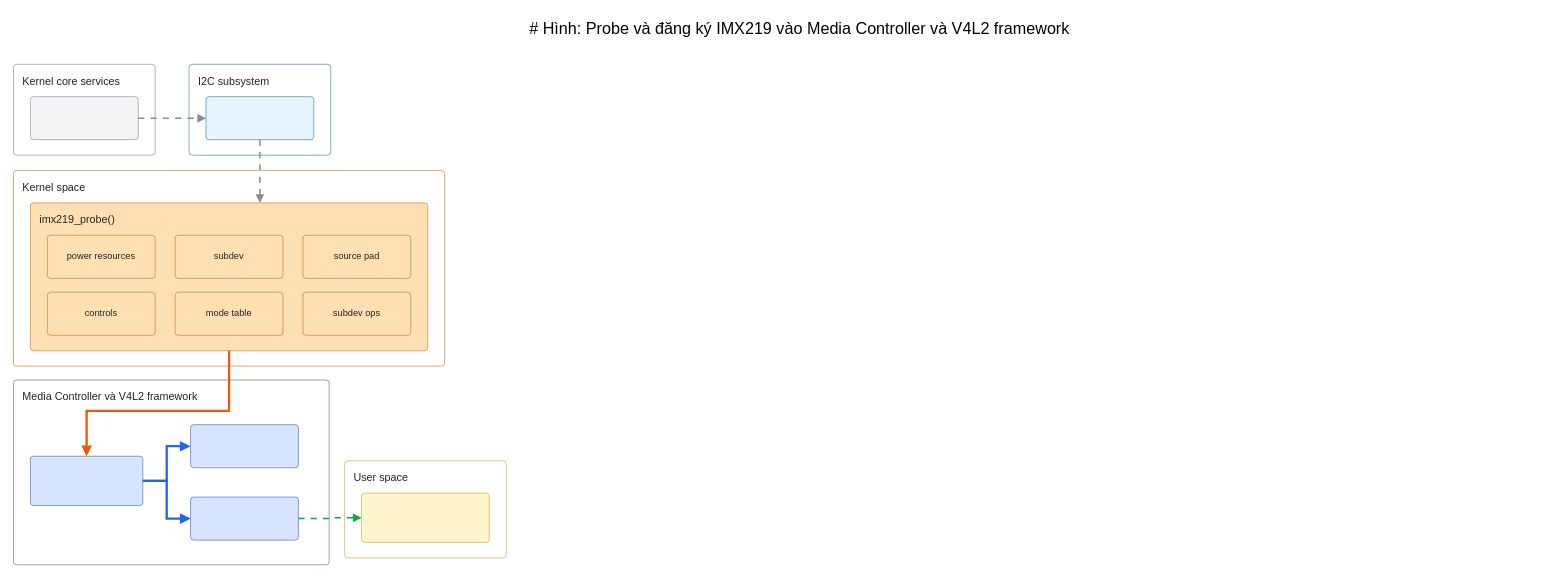
This 1550x578 diagram has some shape labels left out. Here are the shapes that lost their labels. From the top down, the centre of each, then its label:
point (84, 118): Device Tree node
point (259, 118): I2C client
point (244, 446): media graph view
point (86, 480): V4L2 async sensor registry
point (244, 518): subdev devnode
point (425, 517): User app hoặc camera stack
